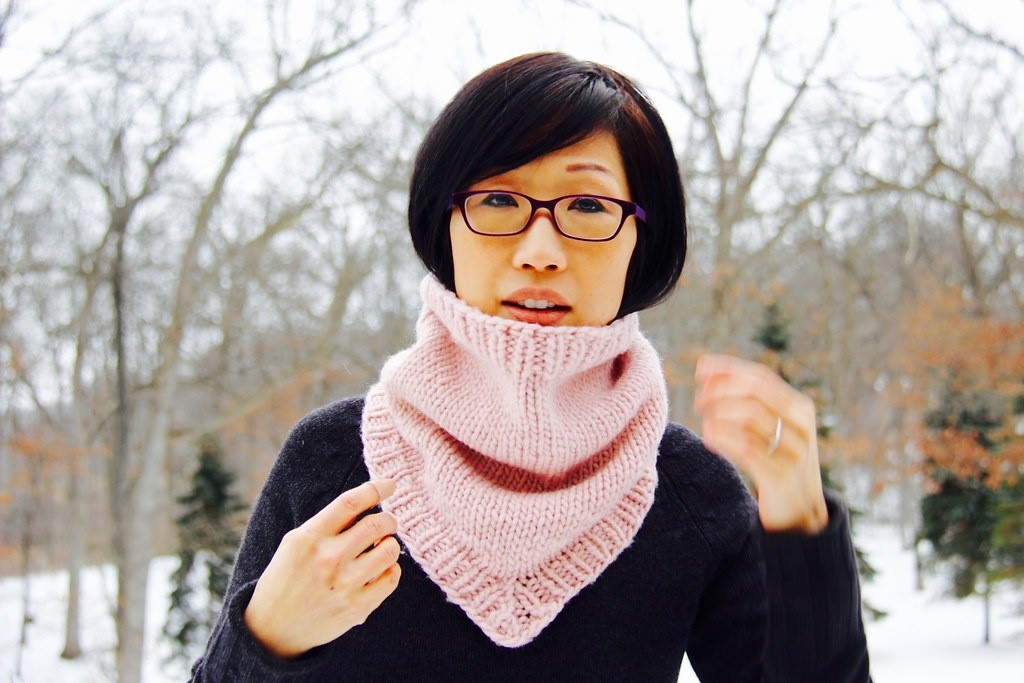face_no_mask: (423, 71, 638, 343)
